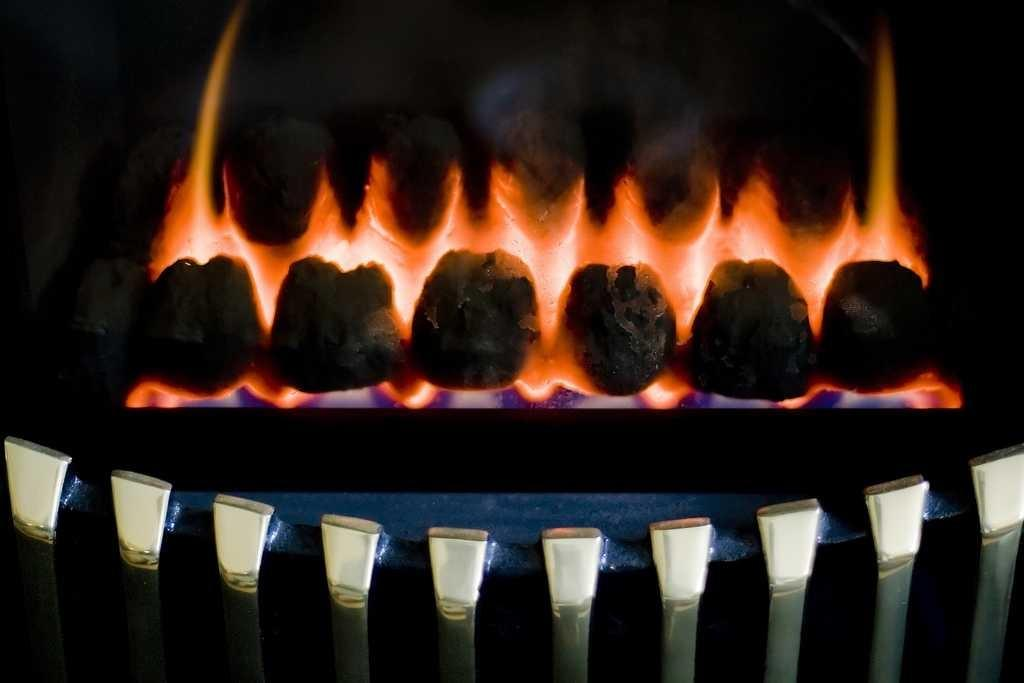fire: (157, 218, 243, 263), (655, 237, 715, 287), (312, 230, 395, 262), (515, 235, 577, 275), (838, 232, 905, 262), (740, 210, 775, 260)
